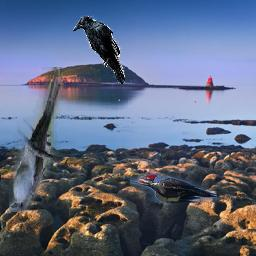Crow: (73, 16, 125, 85)
Cuckoo: (9, 68, 63, 213)
Woodpecker: (131, 173, 218, 203)
